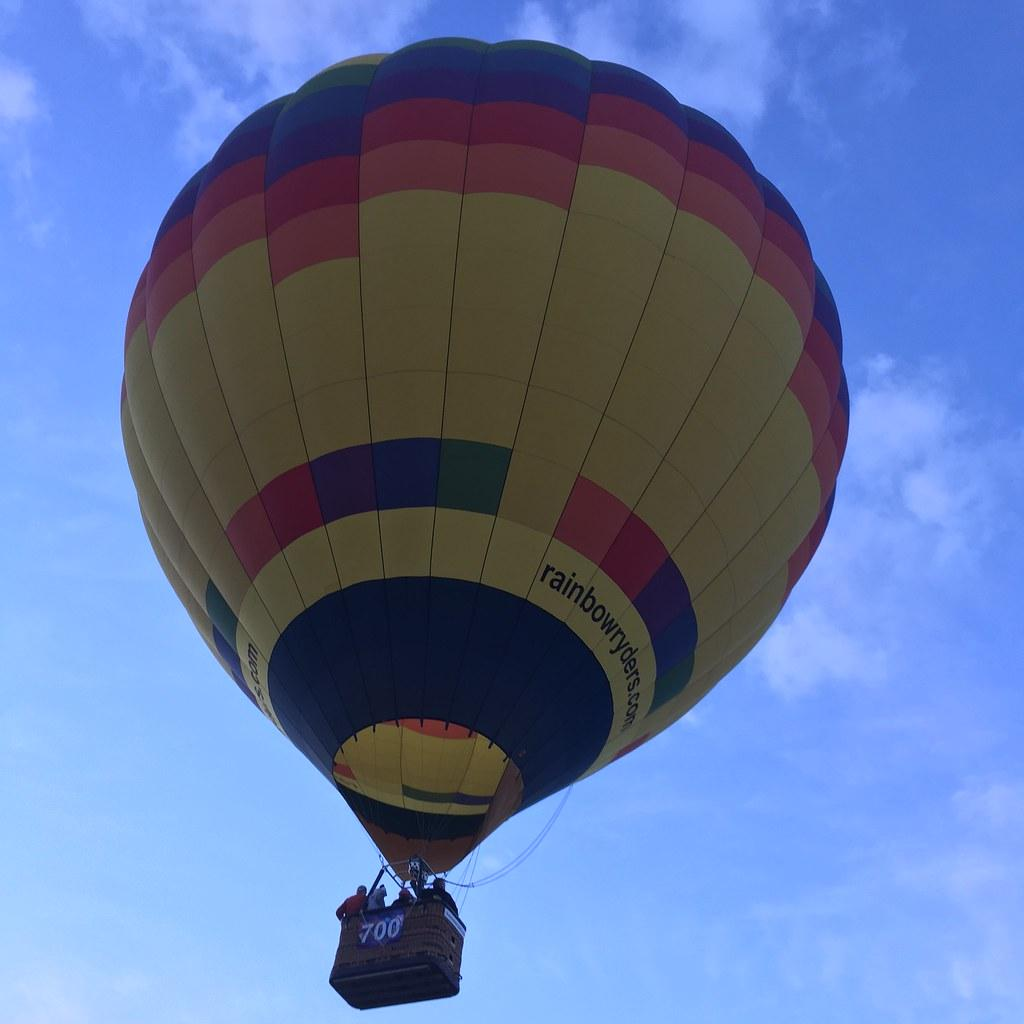balloon: (119, 35, 851, 1009)
